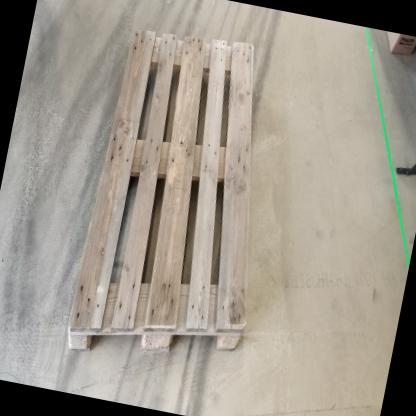BoxFace: (63, 17, 260, 361)
